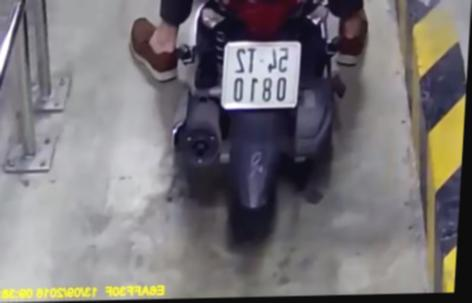License_Plate: (212, 35, 308, 114)
